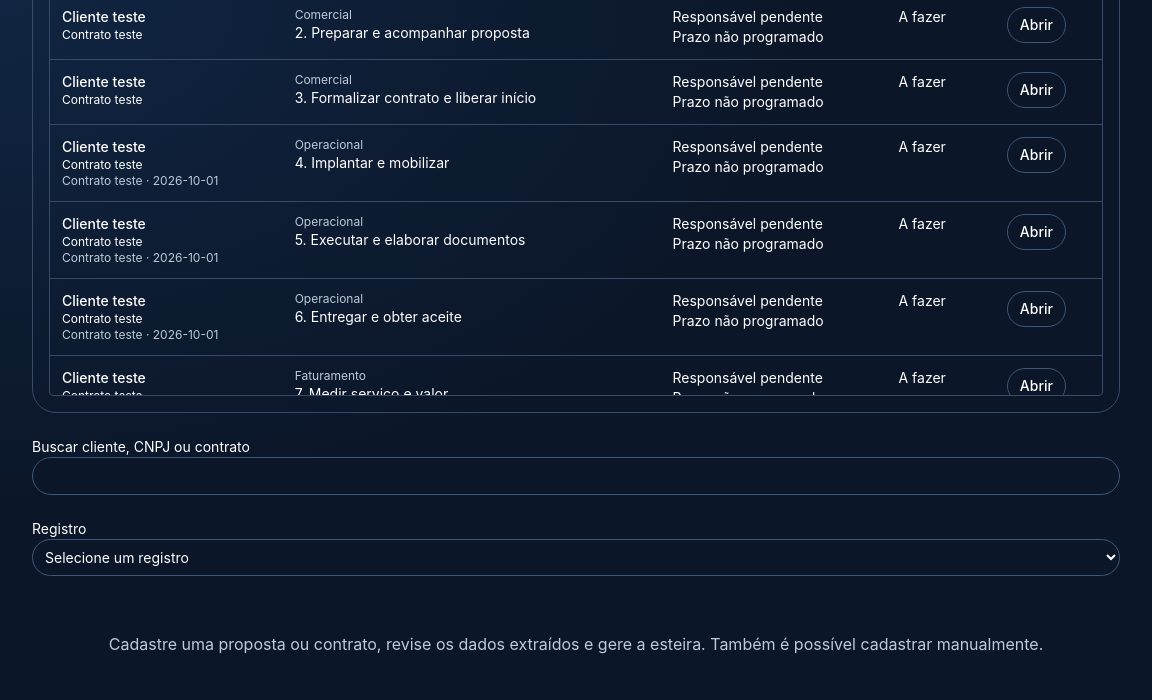
Test case: production workspace › clears the Central when the billing query denies access: 401
The width and height of the screenshot is (1152, 700).
(page scrolled)
Select "Cliente teste · Contrato teste" in the dropdown labelled "Registro" at (576, 558), box [32,539,1120,576]
(page scrolled)
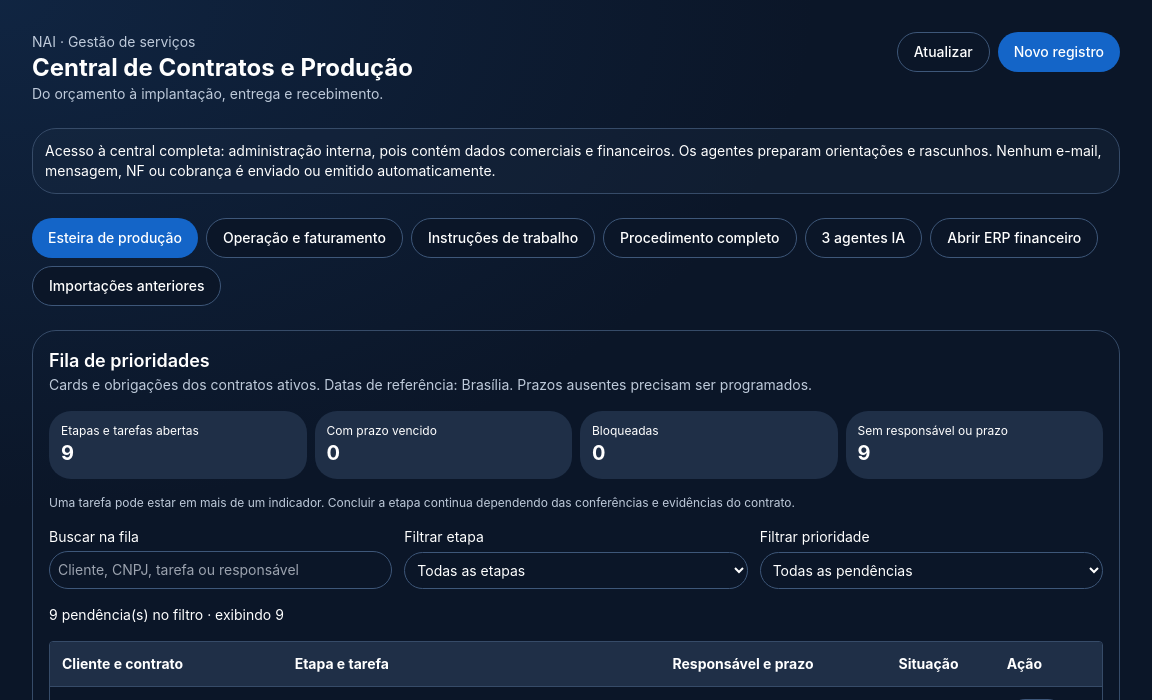
Click the button "Operação e faturamento" at (304, 238), box [206,218,403,258]
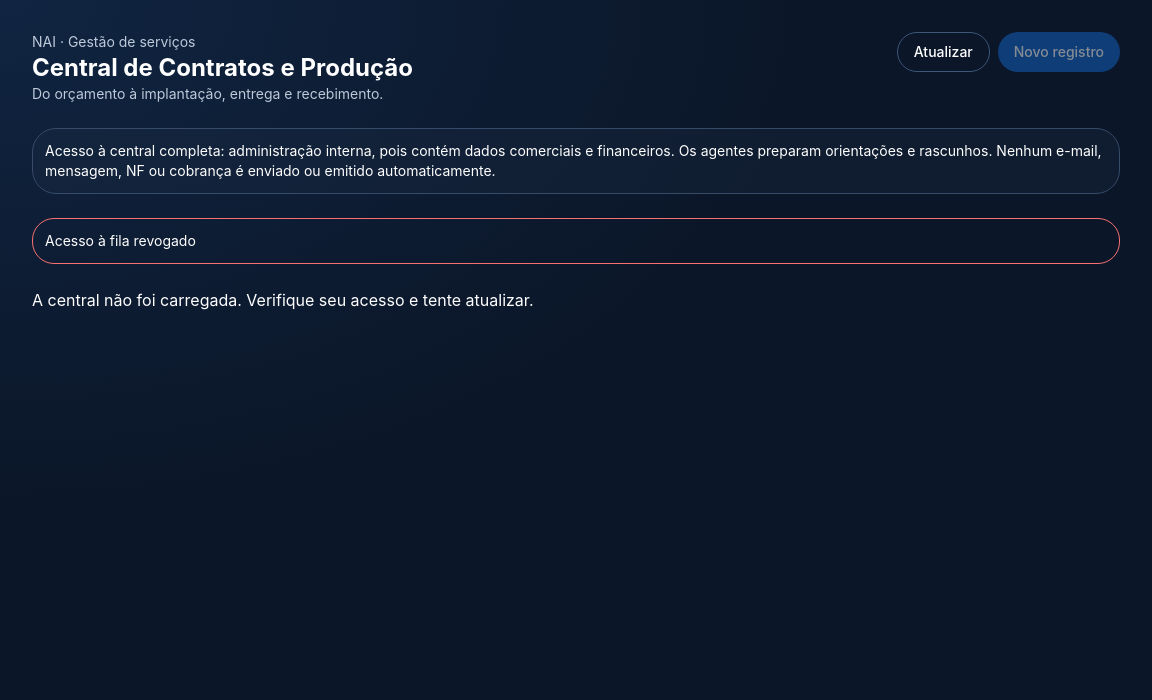
Expected: the text "Contrato teste" is not shown
Now the text "Acesso à fila revogado" is shown, box [32,218,1120,264]
